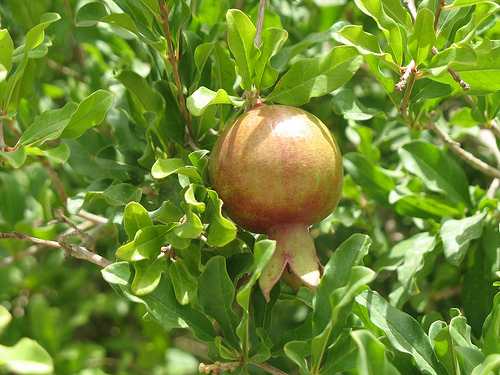pomogranate: (206, 103, 346, 302)
